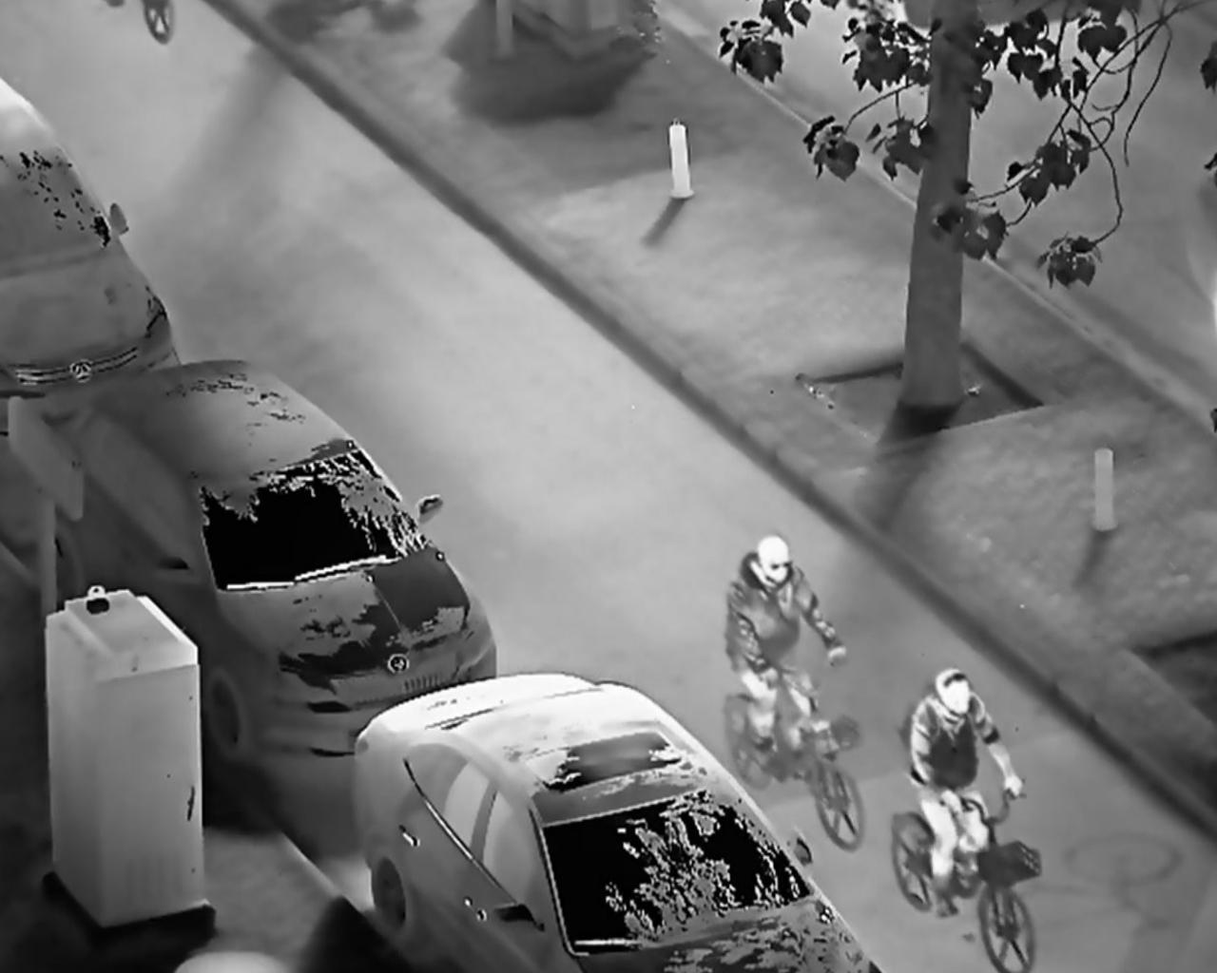person: (723, 531, 850, 775), (905, 665, 1031, 909)
